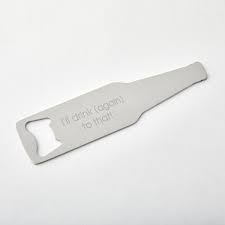bottleopener: (15, 60, 208, 165)
